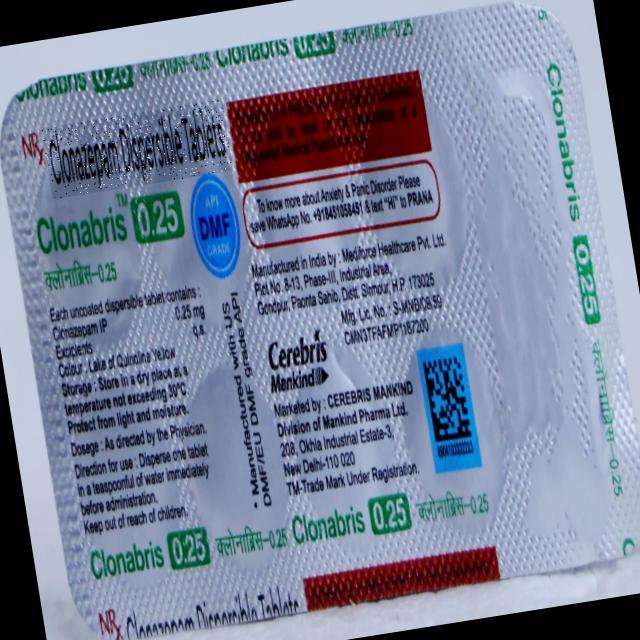Medicine-name: (43, 101, 235, 201)
